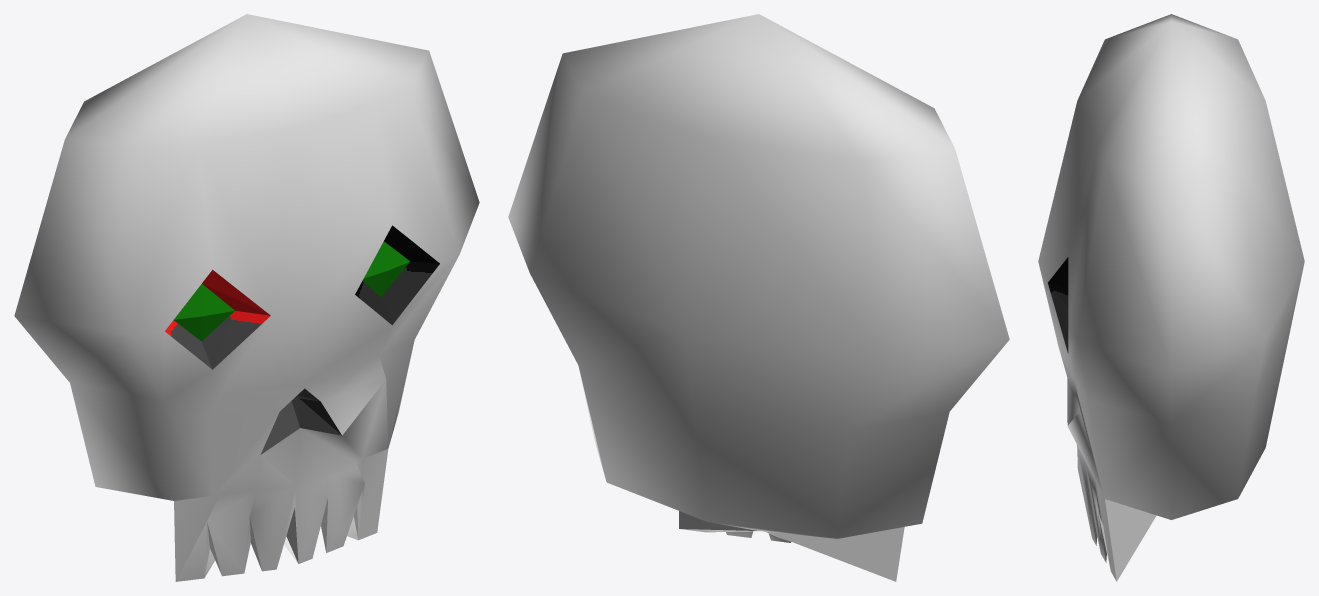
The model's file is Dest_PoisonFactory_Skull.FBX.
3 renders of one model, left to right at view 1: azimuth 30°, elevation 25°; view 2: azimuth 150°, elevation 25°; view 3: azimuth 270°, elevation 25°, orthographic. The views are drawn at different scales.
Parts seen in each view (by area): view 1: Sphere001; view 2: Sphere001; view 3: Sphere001.
Boxes of the visible parts, x1,y1,x2,y2 form: Sphere001: [14, 14, 479, 581]; Sphere001: [508, 14, 1009, 581]; Sphere001: [1038, 14, 1304, 581].
Bounding box in the file's own units: 33.73 × 36.24 × 17.11.
